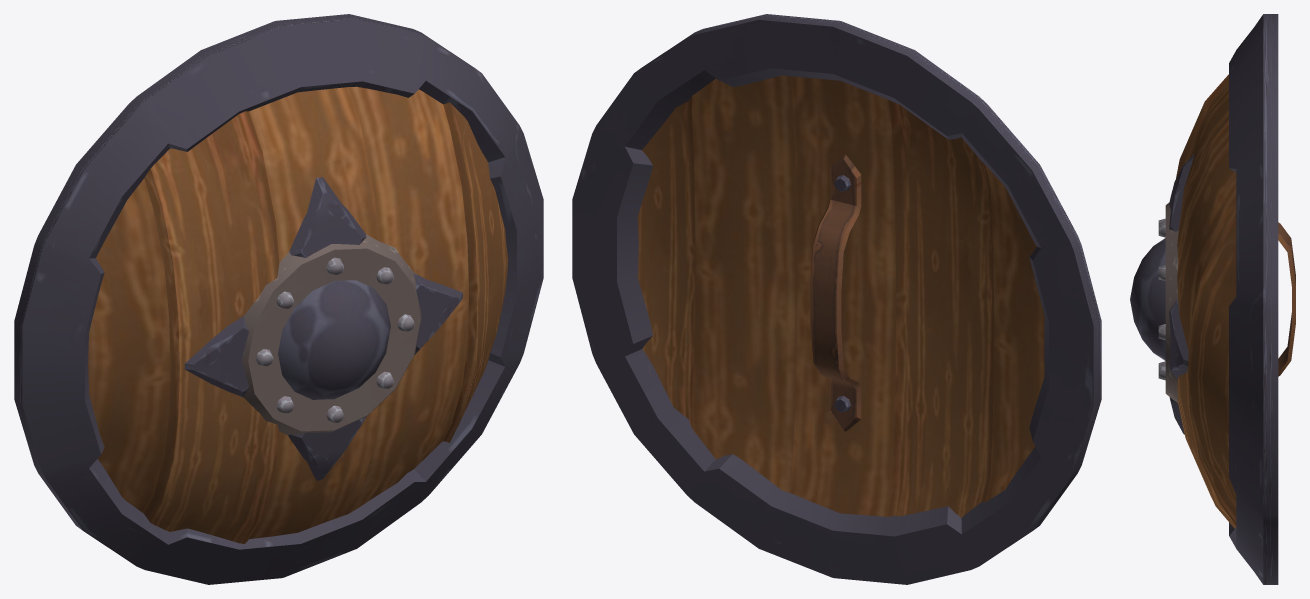
The model's file is Shield_Wooden.gltf.
The picture shows the model from 3 angles, left to right: view 1: azimuth 30°, elevation 25°; view 2: azimuth 150°, elevation 25°; view 3: azimuth 270°, elevation 25°; orthographic projection. The views are drawn at different scales.
Visible parts, largest first — view 1: Shield_Wooden; view 2: Shield_Wooden; view 3: Shield_Wooden.
Part boxes in pixels (left/top/right/bottom): Shield_Wooden: left=14, top=14, right=543, bottom=584; Shield_Wooden: left=572, top=14, right=1101, bottom=584; Shield_Wooden: left=1130, top=14, right=1295, bottom=584.
Size of the model in its own units: 0.6146 by 0.6209 by 0.1788.
3 materials, 3 textured.
